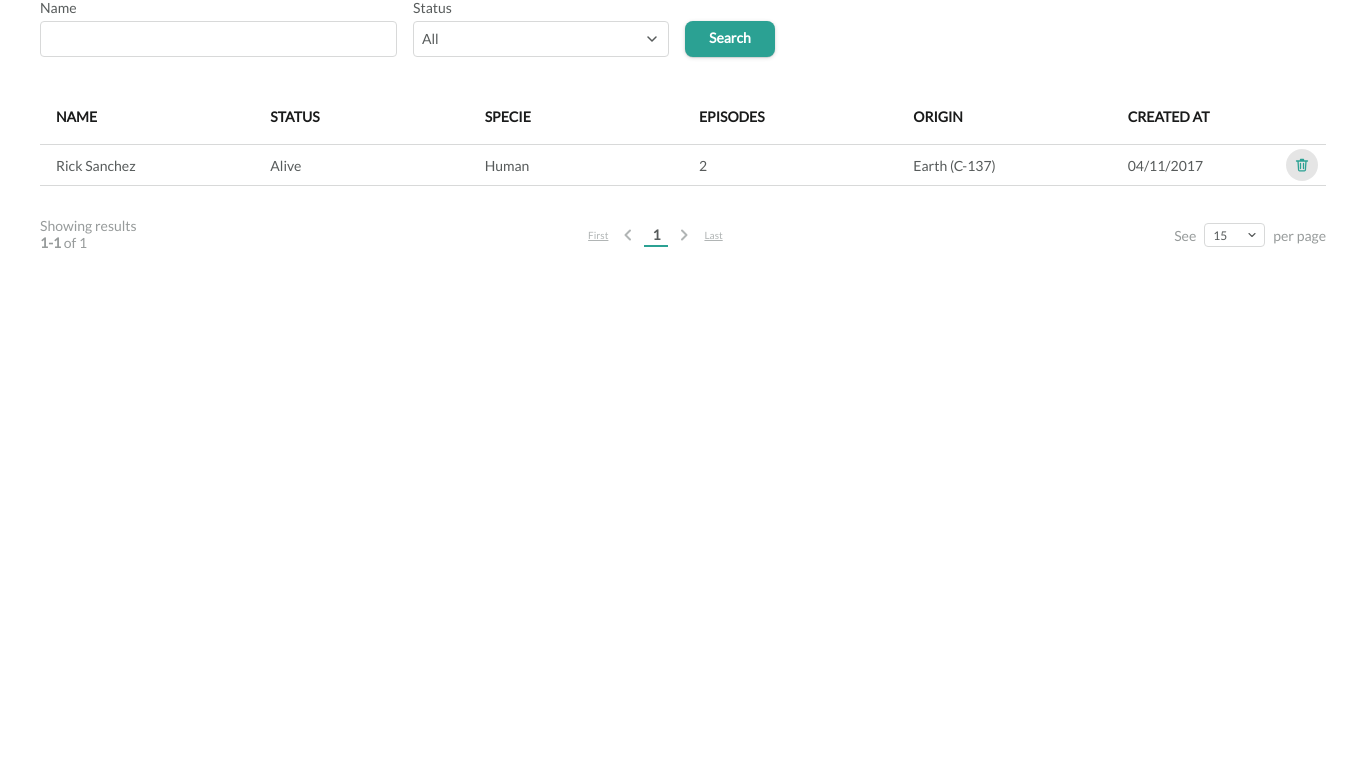
CharacterList › abre a confirmação pela lixeira e recarrega a lista depois de excluir
The width and height of the screenshot is (1366, 768).
Click the button named "Delete Rick Sanchez".
click(1302, 165)  # box [1286,149,1318,181]
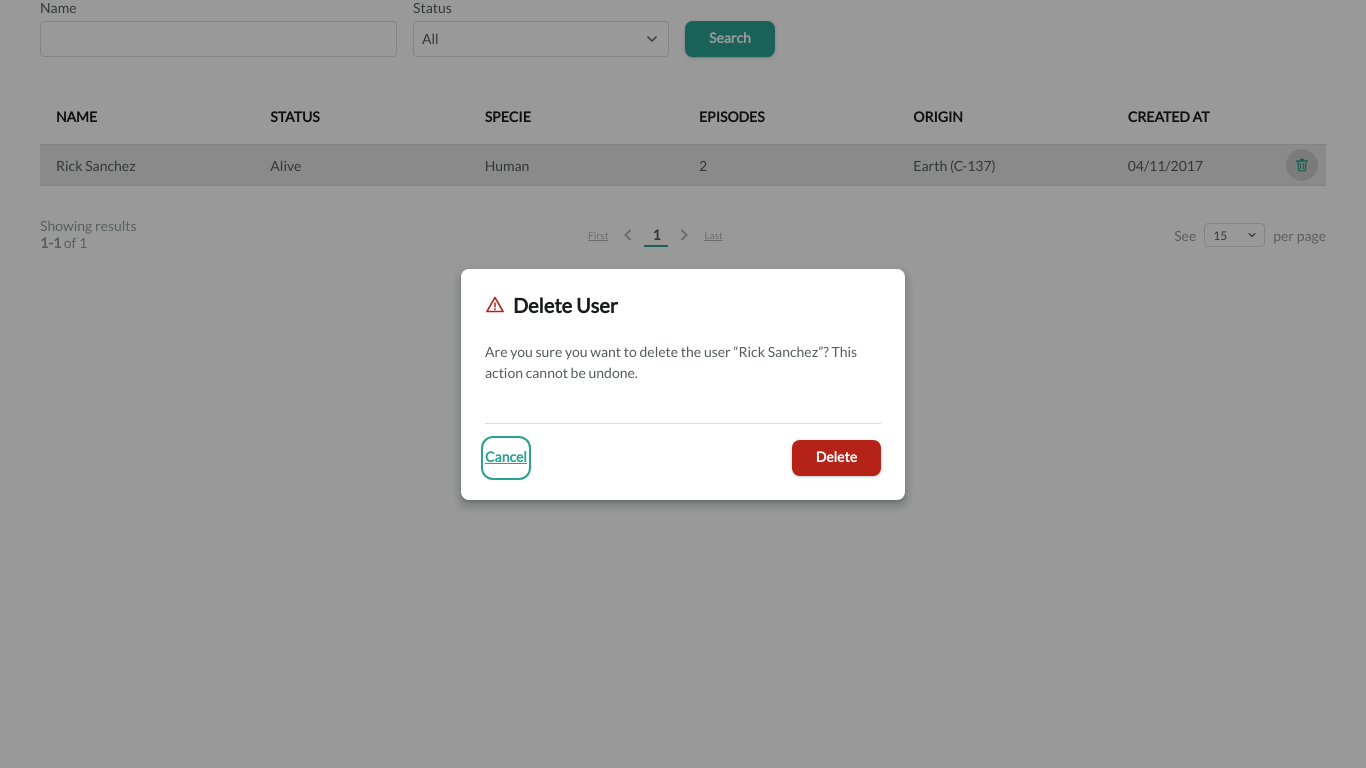
Result: the dialog "Delete User" is shown at [461,268,905,500]
Click the button "Delete".
click(836, 458)  # box [792,440,881,476]
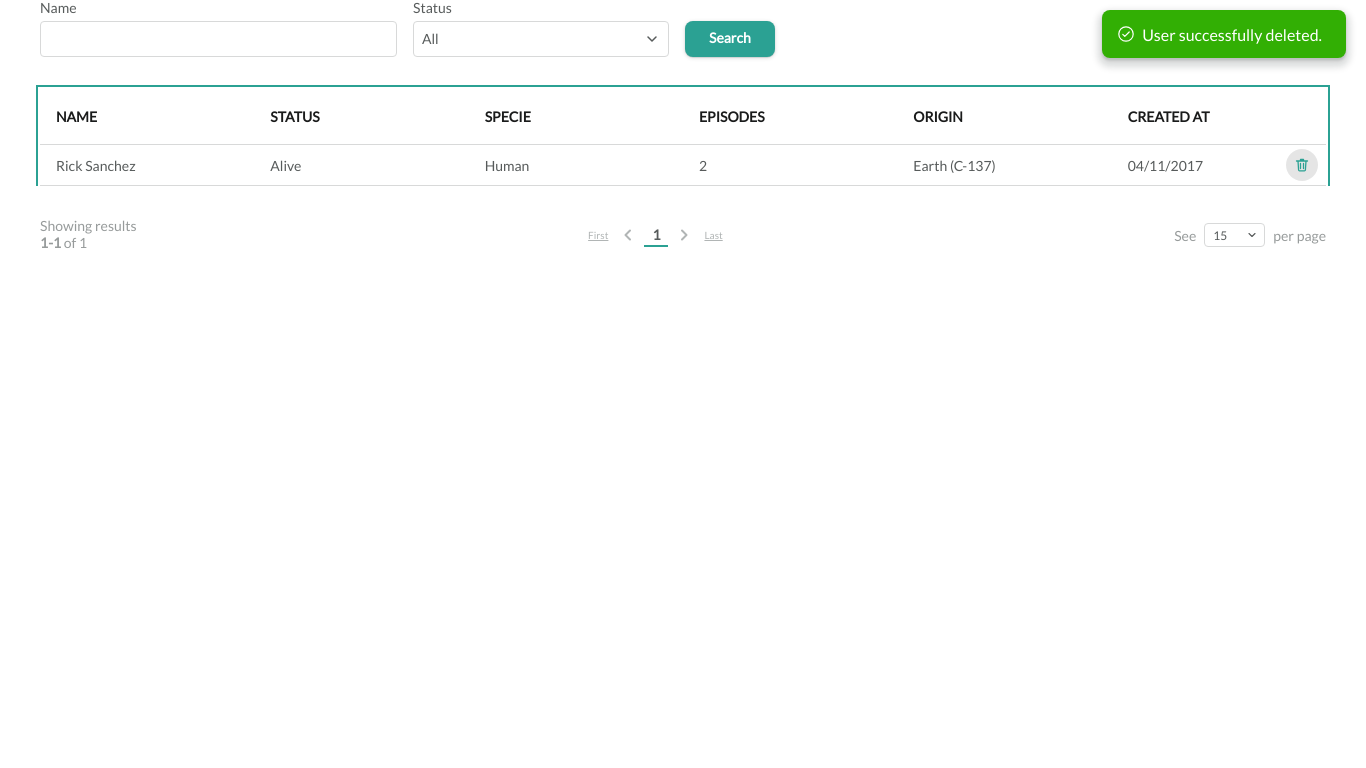
Result: the message reads "User successfully deleted." at [1142,24,1322,44]
Result: the dialog is gone
